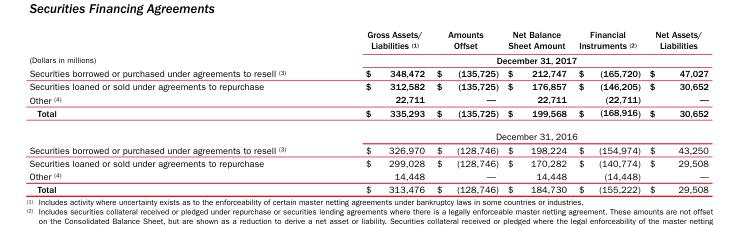table: (28, 28, 707, 194)
table column: (28, 28, 325, 194), (325, 28, 430, 194), (430, 28, 502, 194), (572, 28, 644, 194), (502, 28, 572, 194), (644, 28, 707, 194)
table column header: (28, 28, 707, 52)
table row: (28, 28, 707, 52), (28, 105, 707, 124), (28, 124, 707, 142), (28, 52, 707, 66), (28, 155, 707, 169), (28, 66, 707, 79), (28, 79, 707, 92), (28, 92, 707, 105), (28, 142, 707, 155), (28, 169, 707, 182), (28, 182, 707, 194)
table spanning cell: (325, 124, 707, 142), (325, 52, 707, 66)
